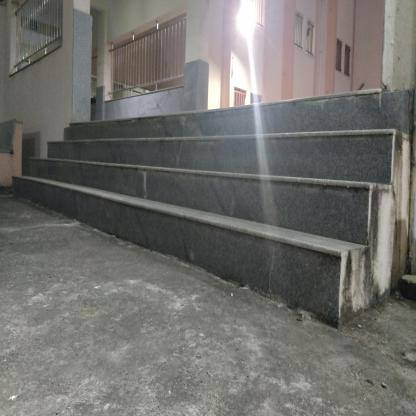stairs: (63, 118, 340, 231)
